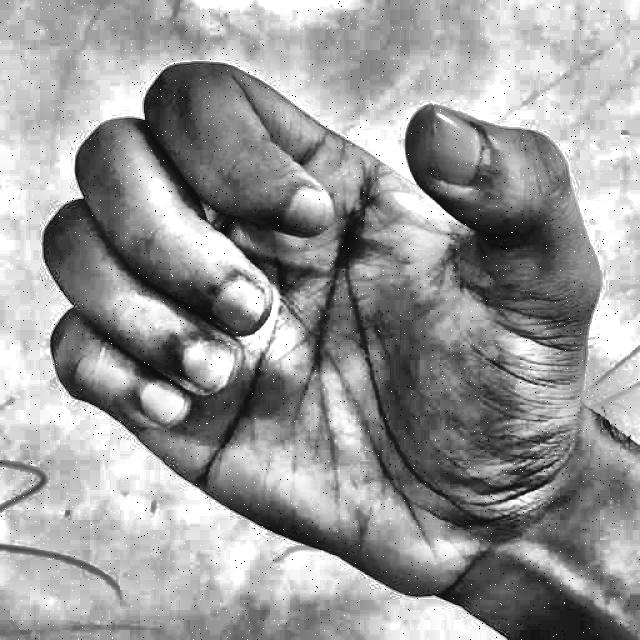Dho: (33, 30, 612, 618)
